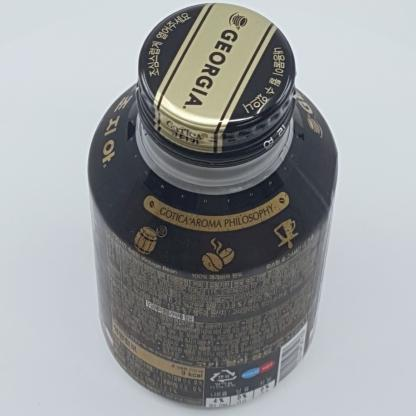---------------270ML: (87, 3, 338, 408)
